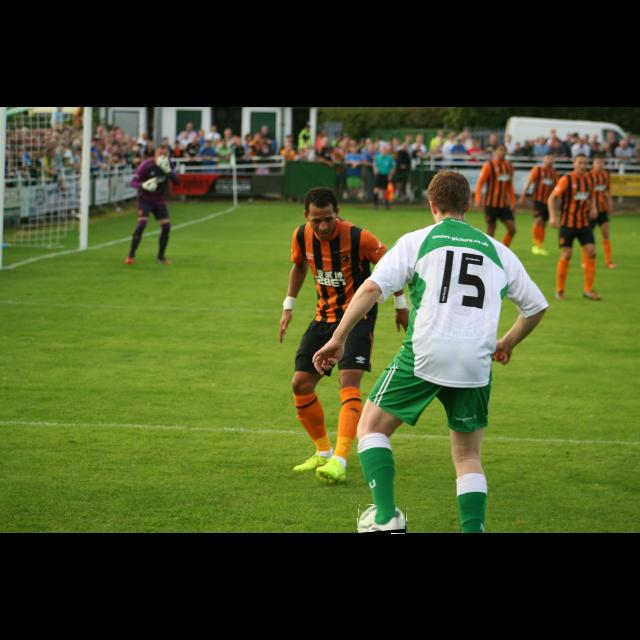Football: (358, 505, 406, 533)
